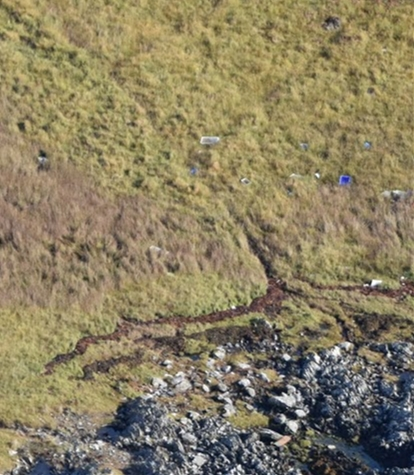scattered_barrel: (181, 121, 414, 301)
